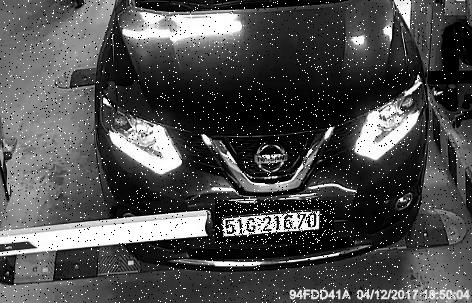License-plate: (217, 201, 337, 245)
